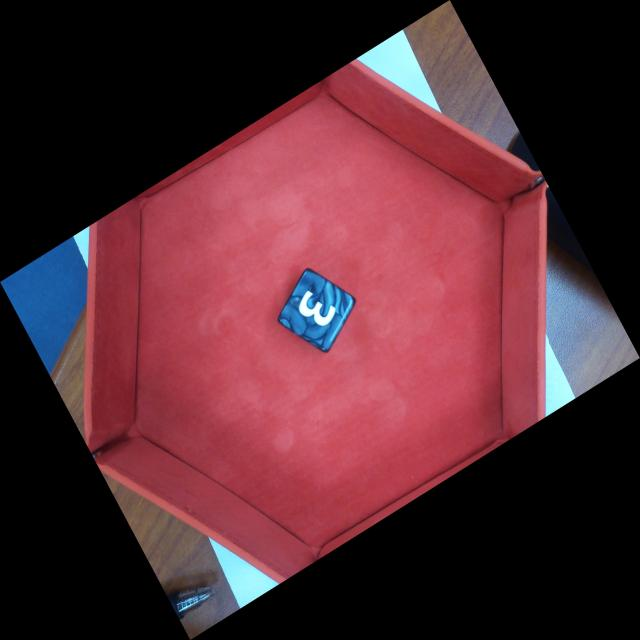dice: (275, 267, 358, 355)
